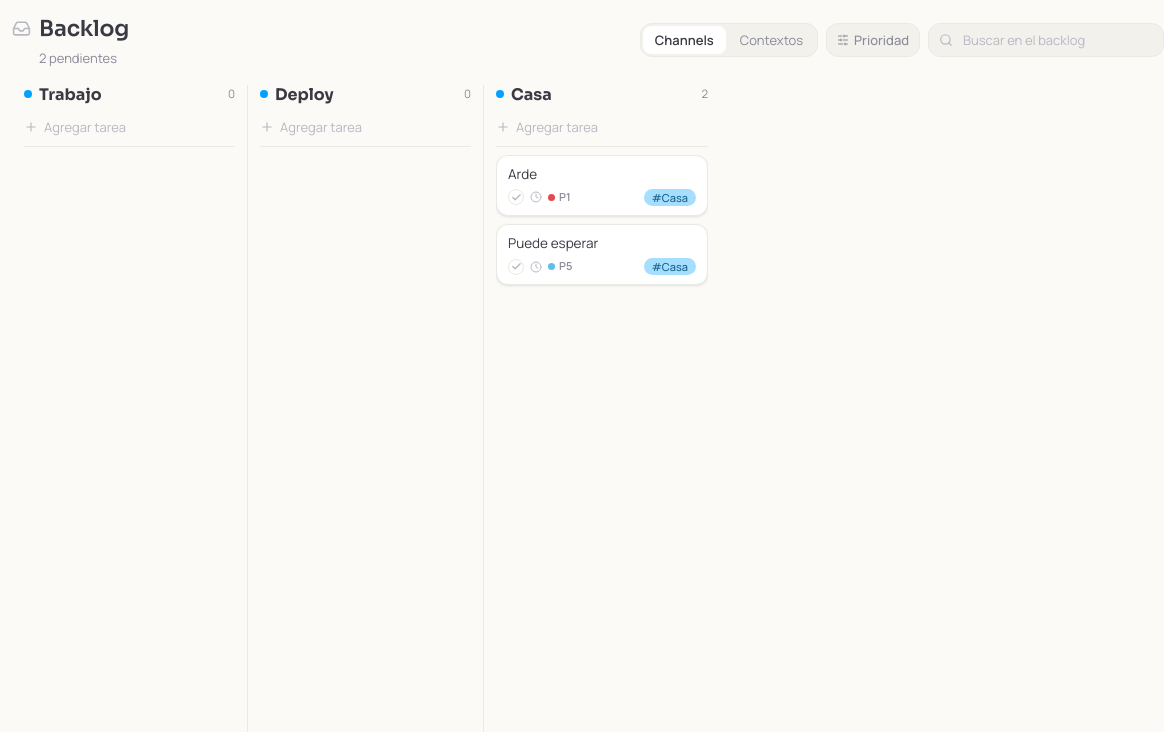
BacklogView · un grupo por columna › volver a hacer click en el nivel saca el filtro
This screenshot has width=1164, height=732.
Expected: the element with class "backlog__col" showing "Trabajo 0 Agregar tarea" is shown, [12, 84, 248, 731]
Click the button with aria-label "Filtrar por prioridad" at (873,40), box [826, 23, 920, 57]
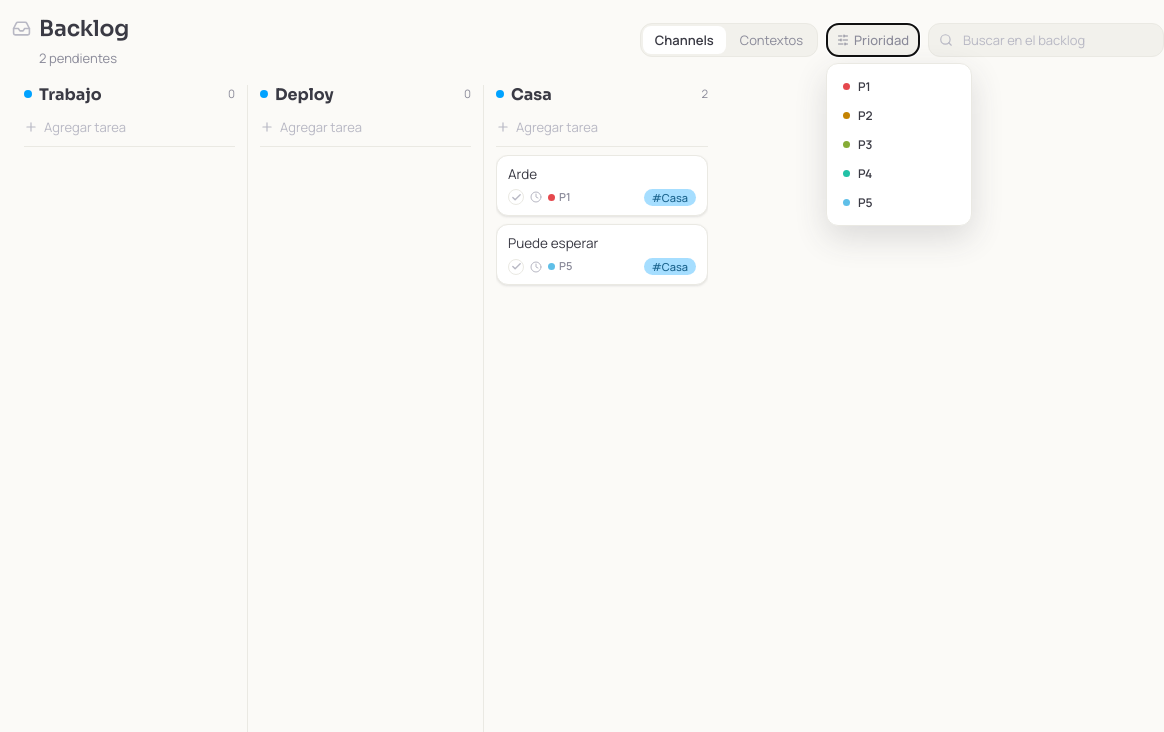
Click the button "P1" at (899,87), box [835, 72, 963, 101]
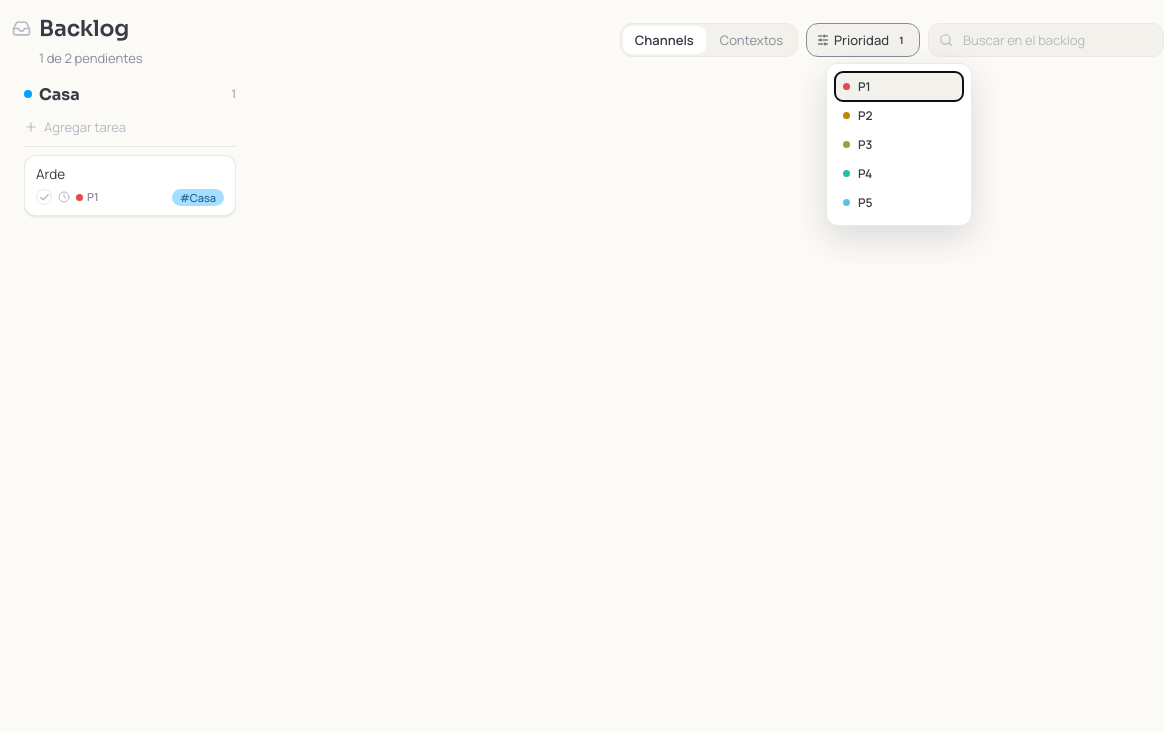
Expected: the text "Puede esperar" is gone
Click the button "P1" at (899,87), box [835, 72, 963, 101]
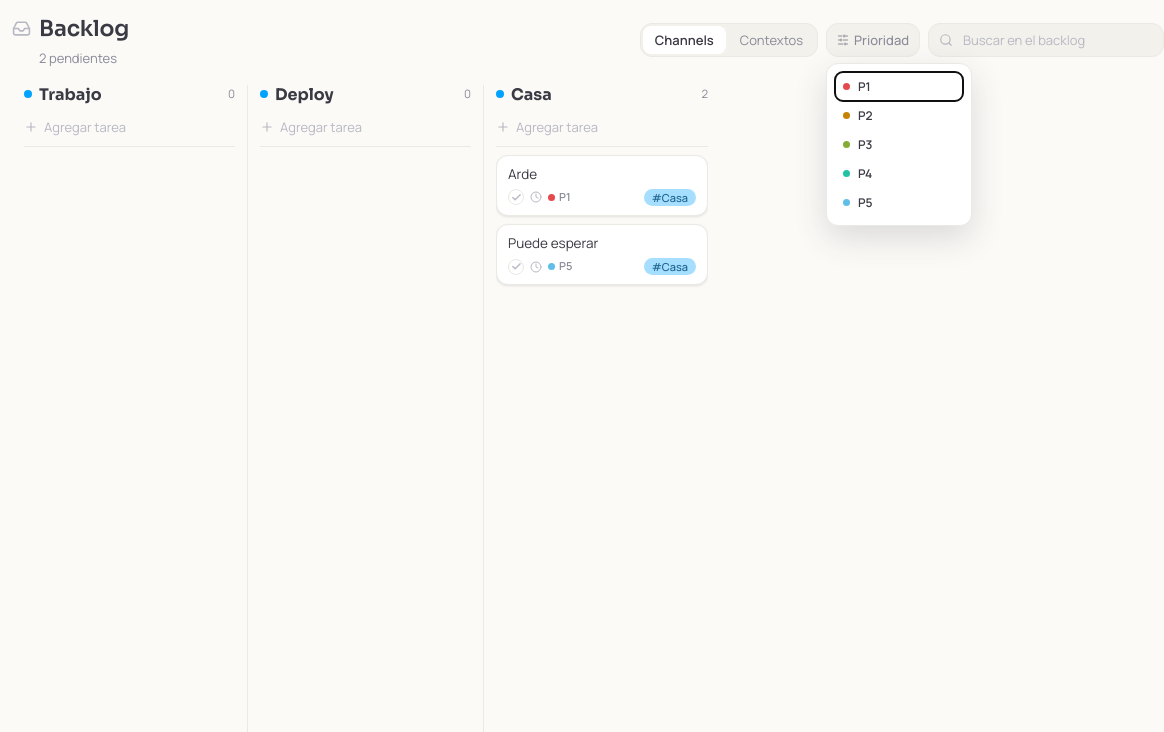
Expected: the text "Puede esperar" is shown, [508, 234, 598, 252]
